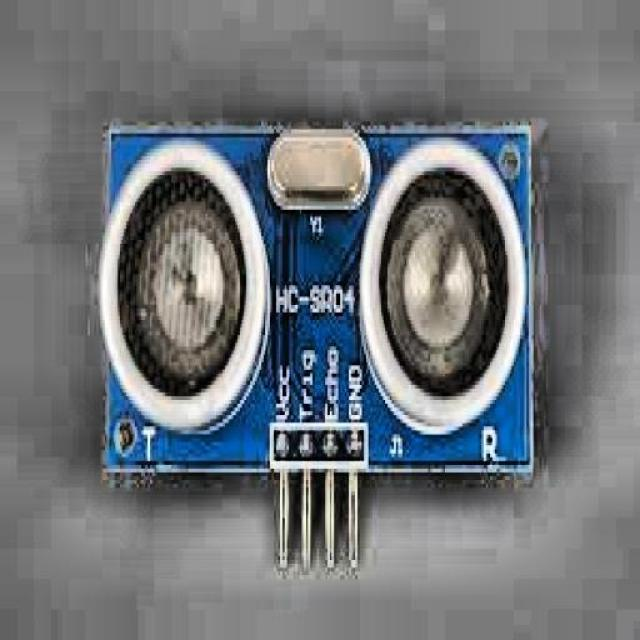Ultrasonic Sensor: (72, 100, 557, 558)
